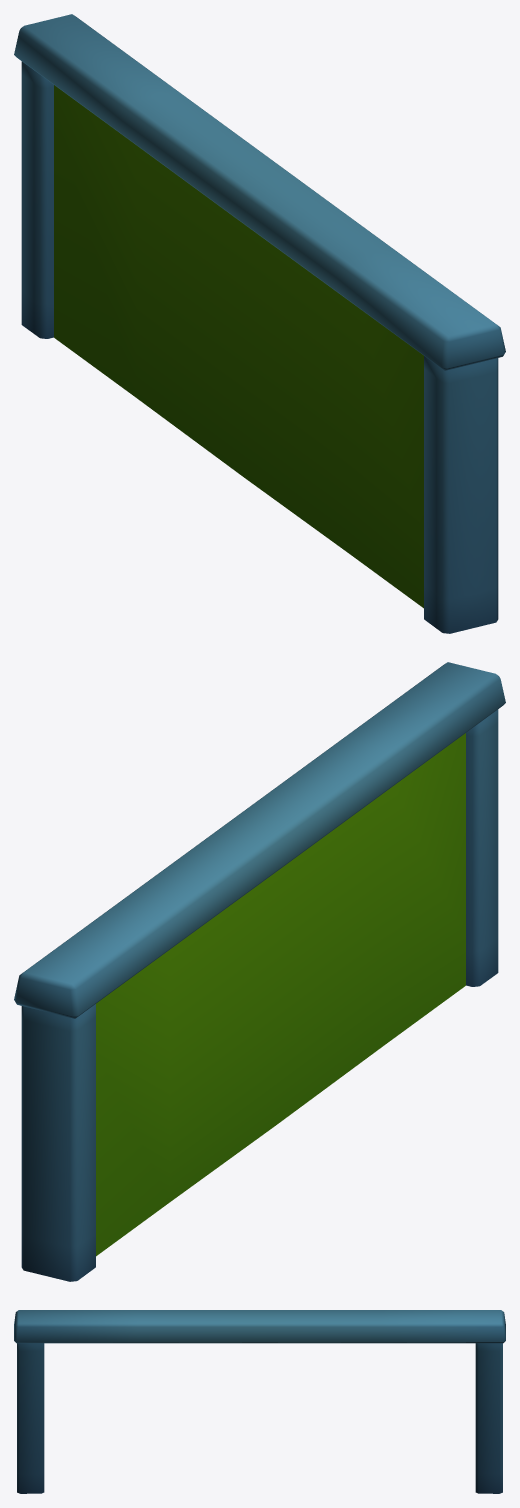
The model's file is StoneWallNight.glb.
3 views of the same model, one above another, from view 1: azimuth 30°, elevation 25°; view 2: azimuth 150°, elevation 25°; view 3: azimuth 270°, elevation 25° (orthographic). The views are drawn at different scales.
Parts seen in each view (by area): view 1: StoneWallNight; view 2: StoneWallNight; view 3: StoneWallNight.
Boxes of the visible parts, x1,y1,x2,y2 form: StoneWallNight: [14, 14, 505, 633]; StoneWallNight: [14, 662, 505, 1281]; StoneWallNight: [14, 1310, 505, 1493].
Size of the model in its own units: 0.7885 by 3.47 by 9.12.
Materials: 2 (1 with a texture image).
